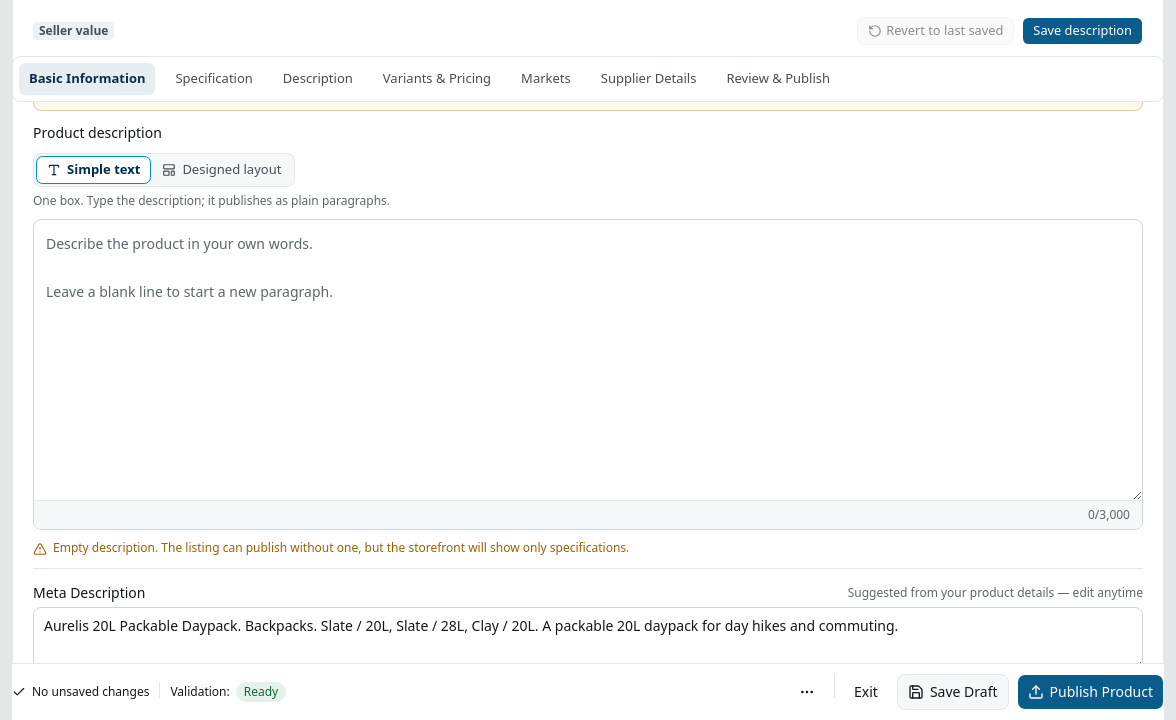
Test: Product editor - telling the seller a save landed › says so when the description save is refused
(page scrolled)
Replace the text in the text box named "Product description" with "Soft cotton twill.". click: [588, 360]
box: [34,220,1142,500]
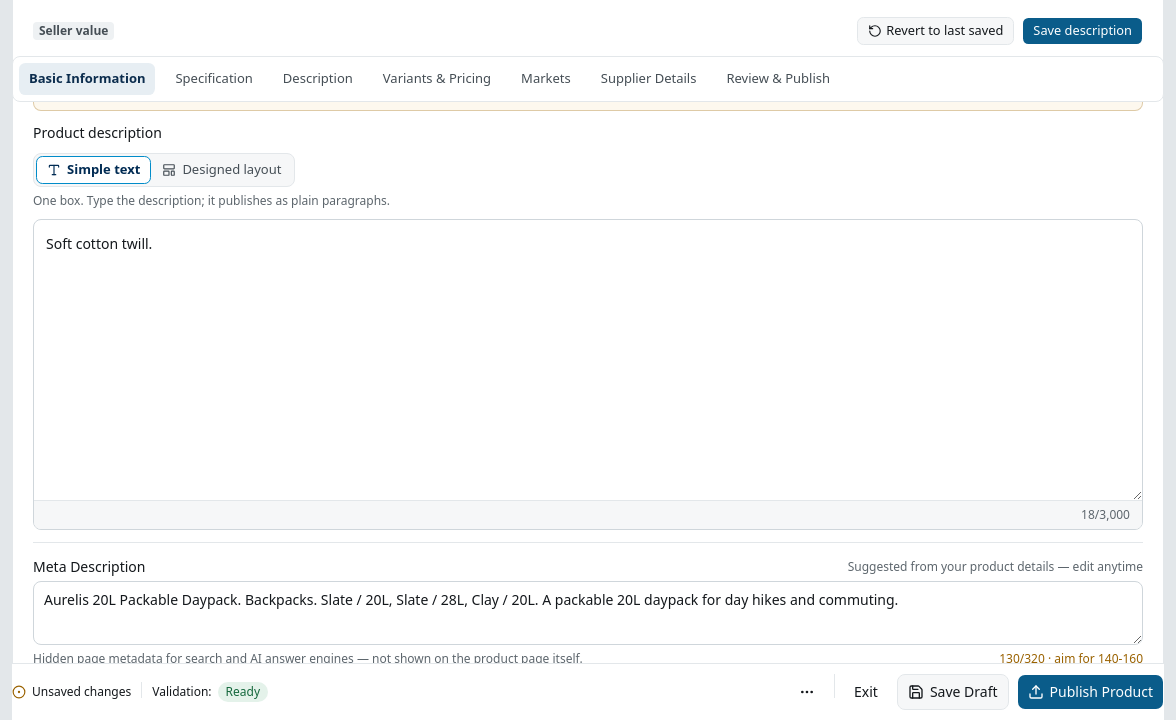
Click the button "Save description". click: [1083, 31]
box: [1022,17,1143,45]
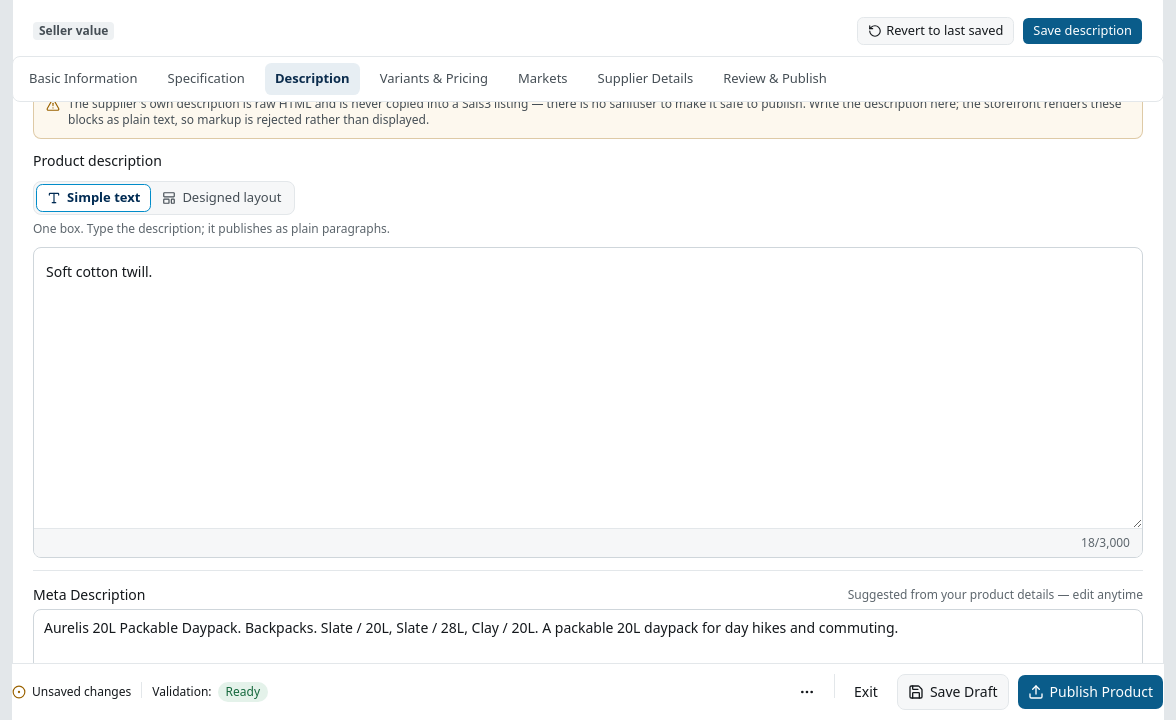
expect the text "This description changed in another tab or session." is shown: met, box [33,56,321,73]
